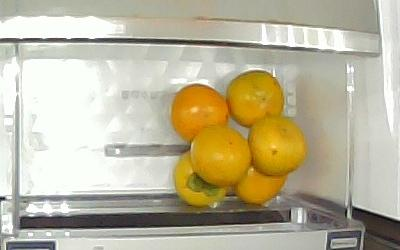persimmon: (189, 125, 253, 186), (170, 83, 230, 144), (248, 116, 308, 177), (228, 71, 285, 127), (173, 150, 228, 208), (234, 163, 289, 204)
